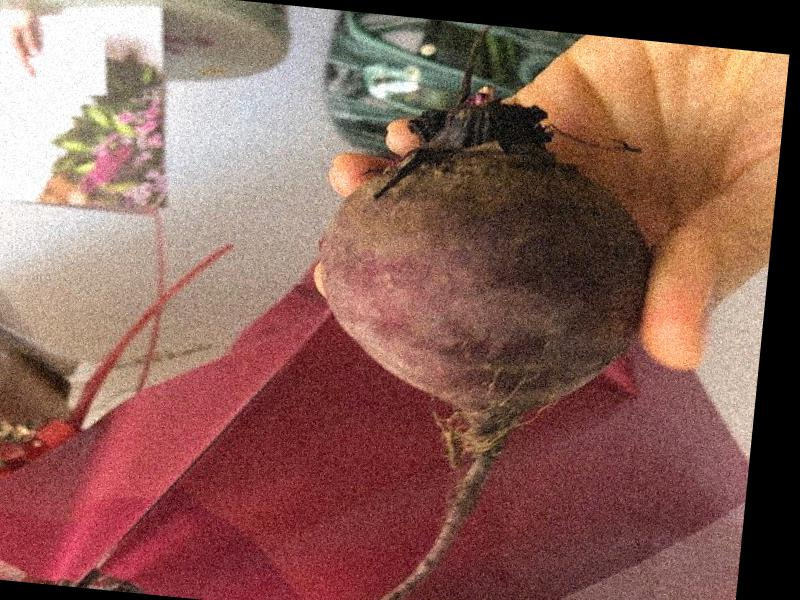Beet: (285, 14, 671, 600)
